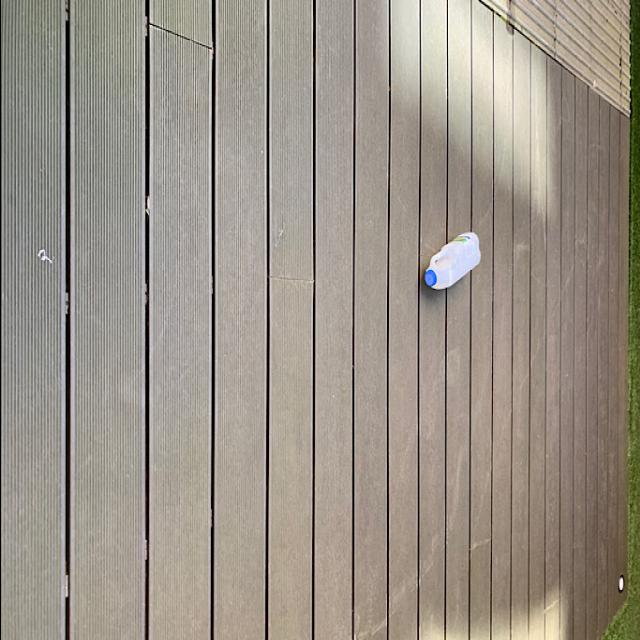HDPEM: (418, 231, 481, 295)
